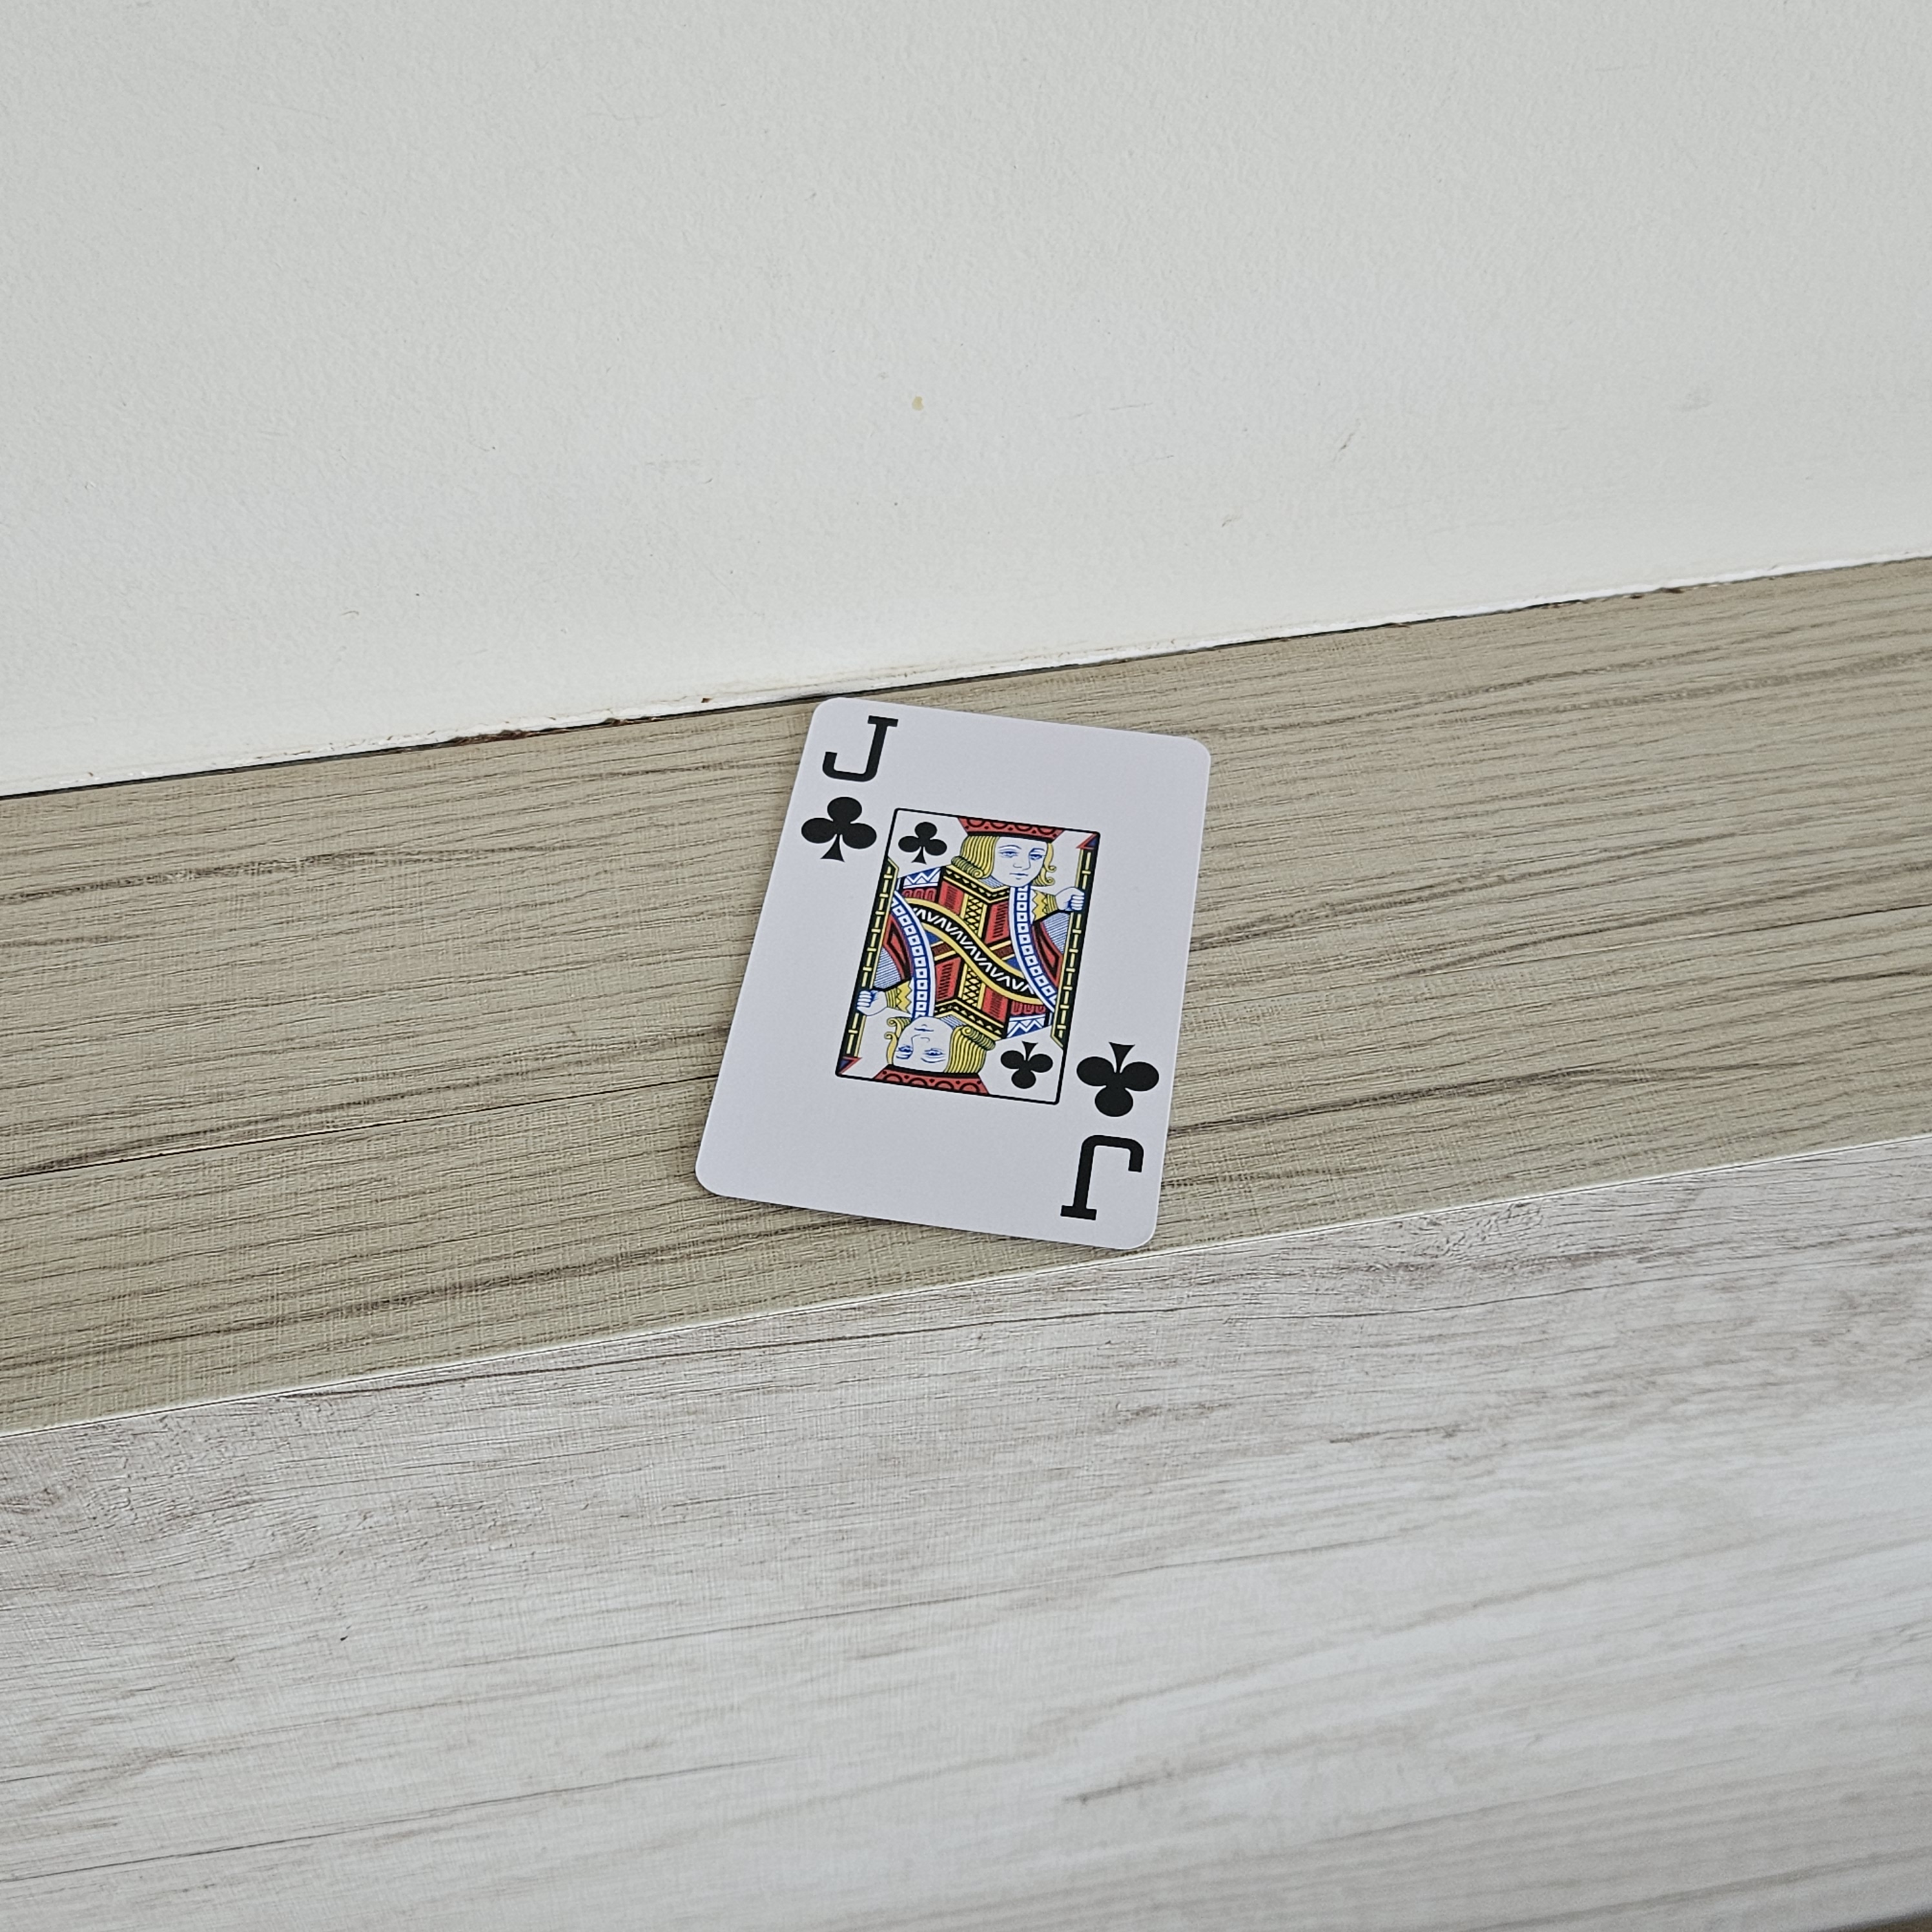JP: (1054, 1037, 1166, 1238), (794, 709, 901, 869)
